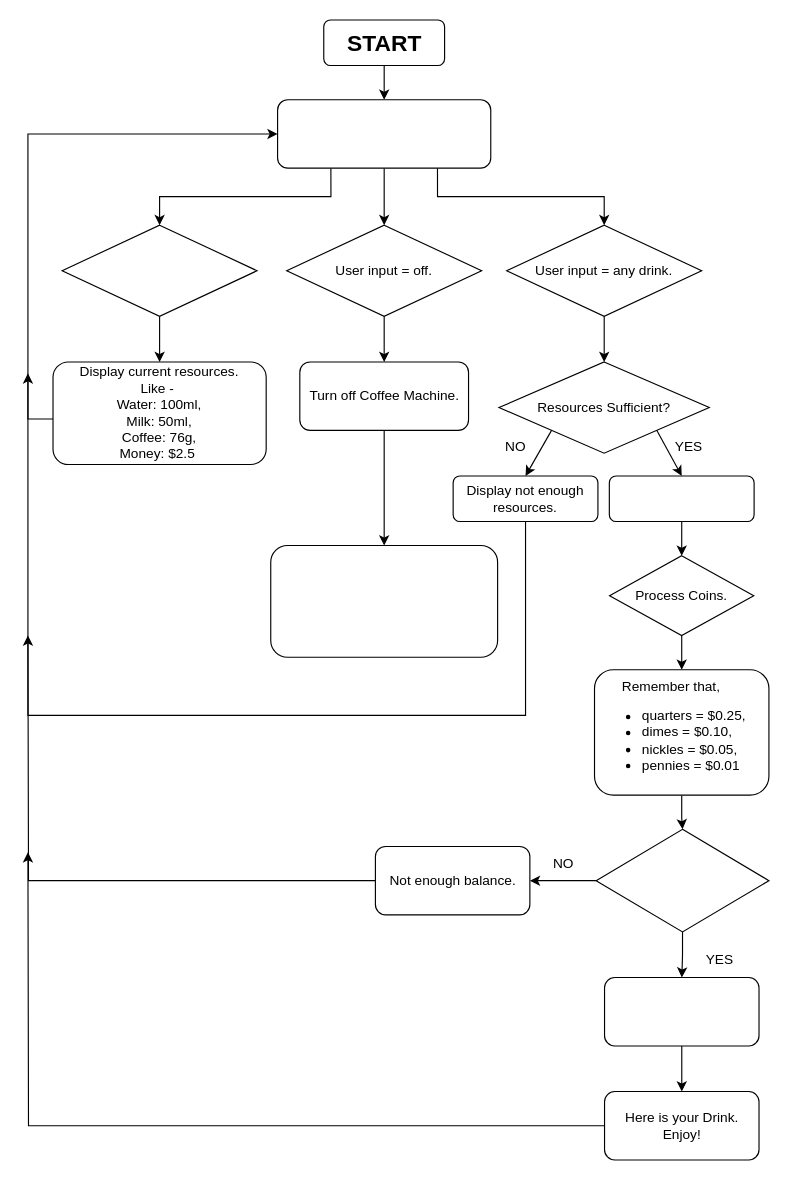
Image size: 789x1180. Some labels were removed from this diagram. Here are the shapes that lost their labels. From the top down, the centre of each, then its label:
At point (383, 133): "Check User inputs. (It should ask every time action has completed)".
At point (159, 270): "User input = report.".
At point (681, 498): "Ask to insert coin".
At point (384, 600): "STOP".
At point (682, 880): "Transaction Successful?".
At point (681, 1011): "Make Coffee".
